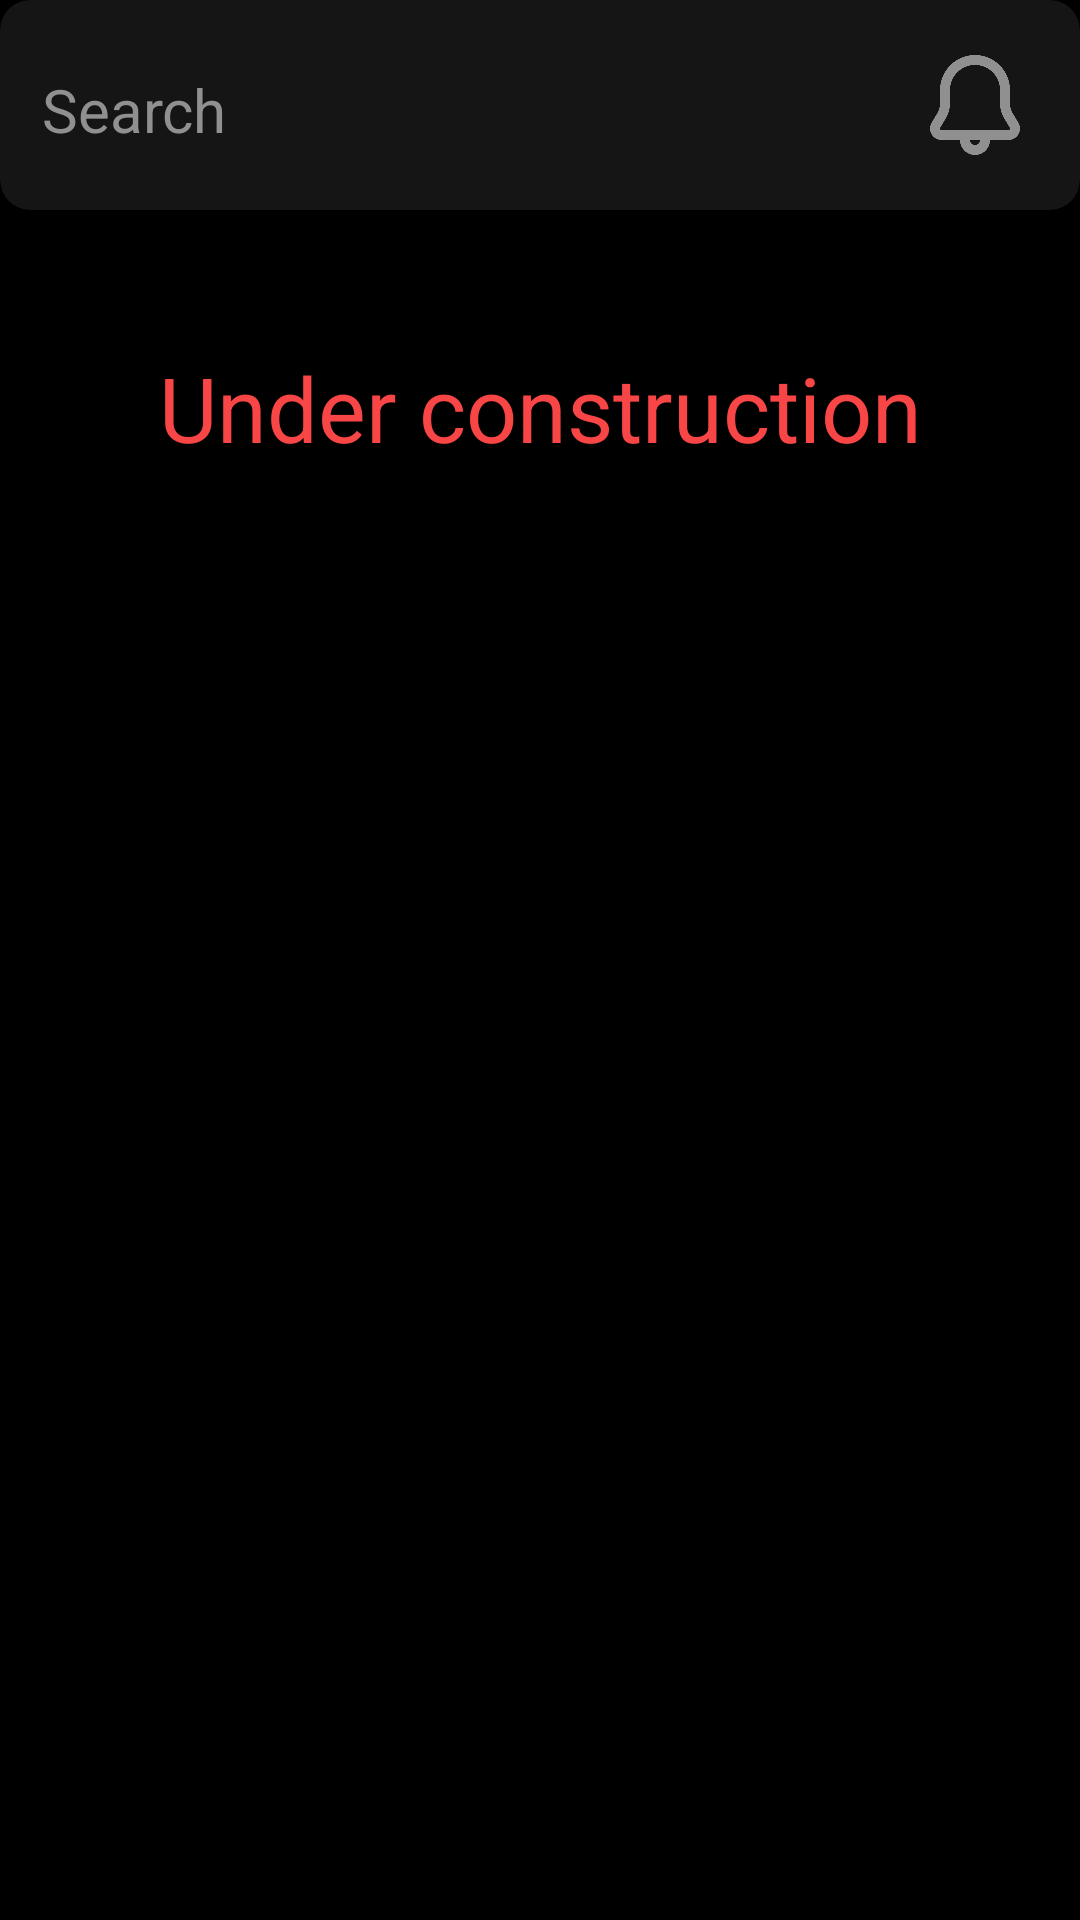

Icon bounding boxes for this 1080px×1920px phone screenshot, format (x1, y1, x2, y2):
Notifs: (930, 55, 1020, 155)
